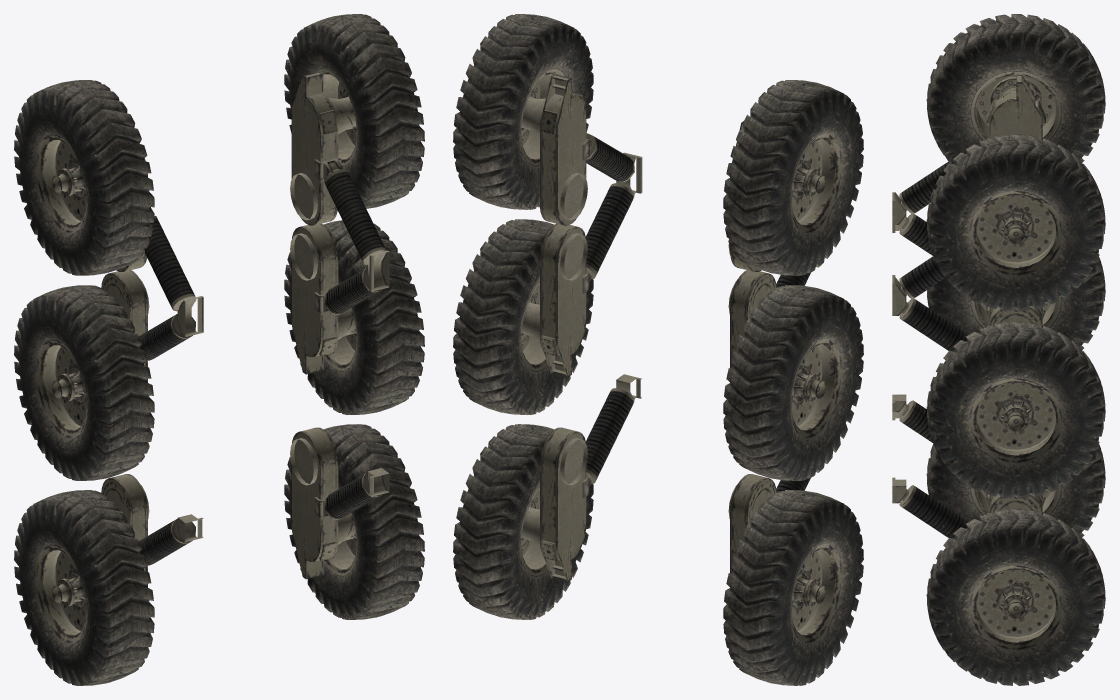
File: Chassis.glb
3 renders of one model, left to right at view 1: azimuth 30°, elevation 25°; view 2: azimuth 150°, elevation 25°; view 3: azimuth 270°, elevation 25°, orthographic. The views are drawn at different scales.
Visible parts, largest first — view 1: set_1_group_1, set_0_group_1, set_3_group_0, set_1_group_0, set_2_group_0, set_0_group_0; view 2: set_1_group_1, set_0_group_1, set_3_group_0, set_1_group_0, set_2_group_0, set_0_group_0; view 3: set_0_group_1, set_1_group_1, set_0_group_0, set_3_group_0, set_2_group_0, set_1_group_0.
Boxes of the visible parts, <box> form: set_1_group_1: <box>14,80,154,685</box>; set_0_group_1: <box>284,14,424,619</box>; set_3_group_0: <box>290,71,389,579</box>; set_1_group_0: <box>36,134,86,642</box>; set_2_group_0: <box>101,158,203,587</box>; set_0_group_0: <box>313,68,357,576</box>; set_1_group_1: <box>723,80,863,685</box>; set_0_group_1: <box>453,14,593,619</box>; set_3_group_0: <box>521,74,642,581</box>; set_1_group_0: <box>791,133,841,643</box>; set_2_group_0: <box>728,121,810,573</box>; set_0_group_0: <box>520,67,566,577</box>; set_0_group_1: <box>926,134,1105,685</box>; set_1_group_1: <box>926,14,1105,537</box>; set_0_group_0: <box>969,191,1062,649</box>; set_3_group_0: <box>892,256,1042,538</box>; set_2_group_0: <box>892,74,1045,505</box>; set_1_group_0: <box>970,70,1062,515</box>.
Bounding box in the file's own units: 2.13 × 3.67 × 1.32.
6 materials, 6 textured.
